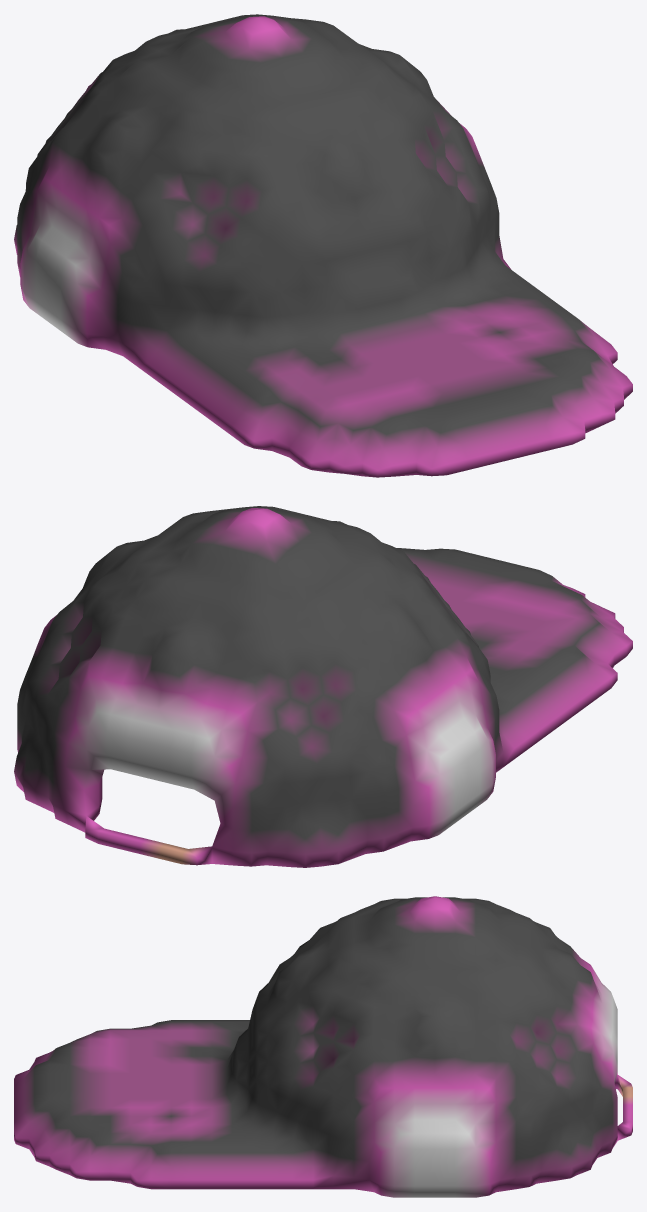
3 renders of one model, top to bottom at view 1: azimuth 30°, elevation 25°; view 2: azimuth 150°, elevation 25°; view 3: azimuth 270°, elevation 25°, orthographic. The views are drawn at different scales.
Bounding box in the file's own units: 1 × 0.6 × 1.52.
